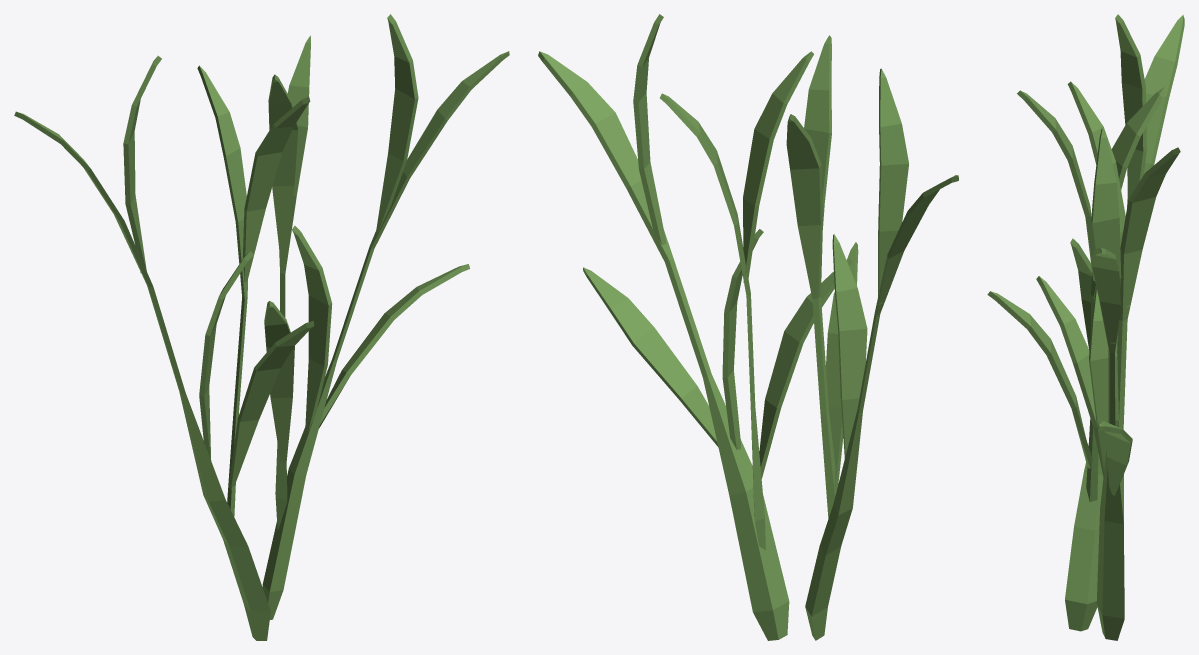
Rendered from rice_3.gltf.
3 views of the same model, side by side, from view 1: azimuth 30°, elevation 25°; view 2: azimuth 150°, elevation 25°; view 3: azimuth 270°, elevation 25° (orthographic). The views are drawn at different scales.
Parts seen in each view (by area): view 1: rice_3; view 2: rice_3; view 3: rice_3.
Part boxes in pixels (x1=…): rice_3: x1=14, y1=14, x2=509, y2=640; rice_3: x1=538, y1=14, x2=958, y2=640; rice_3: x1=987, y1=14, x2=1184, y2=640.
Size of the model in its own units: 0.6186 by 0.7691 by 0.2384.
1 material, 1 textured.
